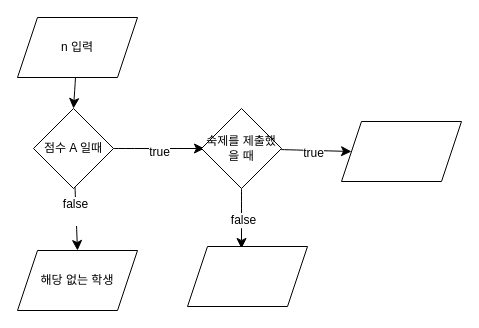
Some shapes in this 479 by 328 pixel diagram are drawn without their labels. Each missing label, with the centre of its shape:
"A+" goes at point (401, 151).
"A0" goes at point (247, 276).
